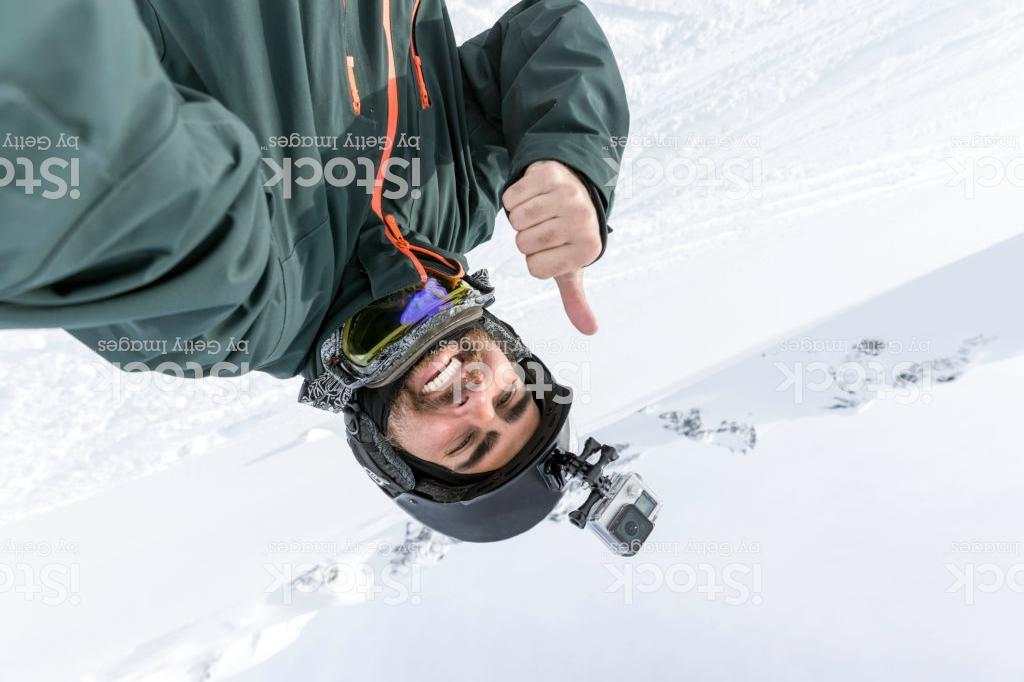thumbsdown: (498, 158, 606, 338)
